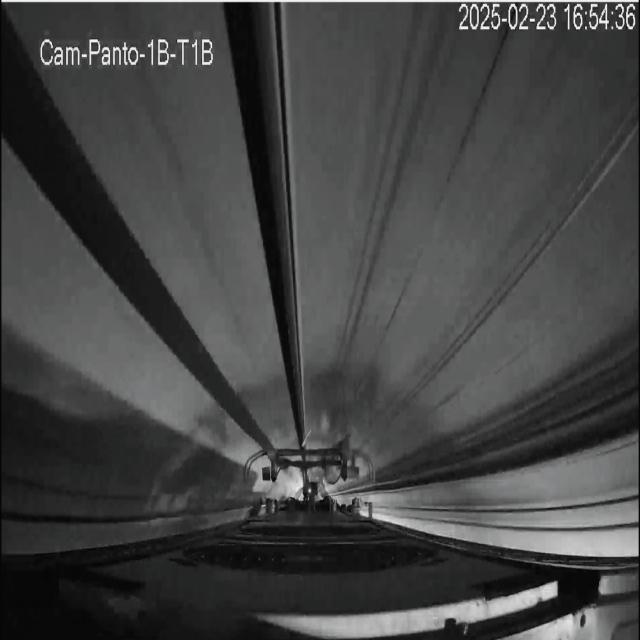Camera Stamp: (34, 27, 220, 71)
Date Stamp: (459, 3, 636, 33)
Sparks: (301, 429, 312, 446)
